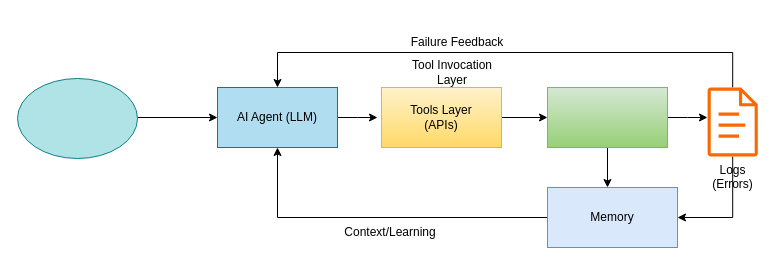
This 776x274 diagram has some shape labels left out. Here are the shapes that lost their labels. From the top down, the box of each, then its label:
(16, 78, 138, 158): User / Schedular
(546, 86, 668, 148): Data Pipeline (Spark / ADF)
